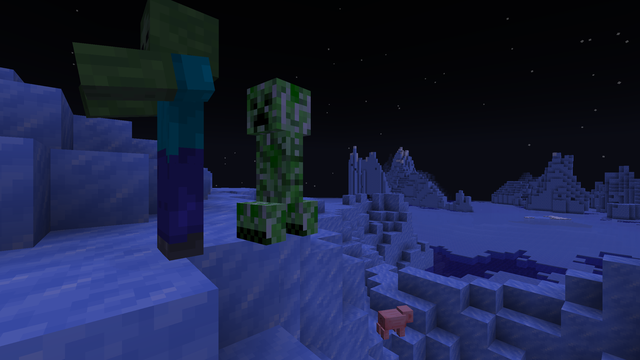cochons: (376, 305, 406, 342)
creepers: (242, 66, 316, 243)
zombies: (133, 1, 225, 267)
